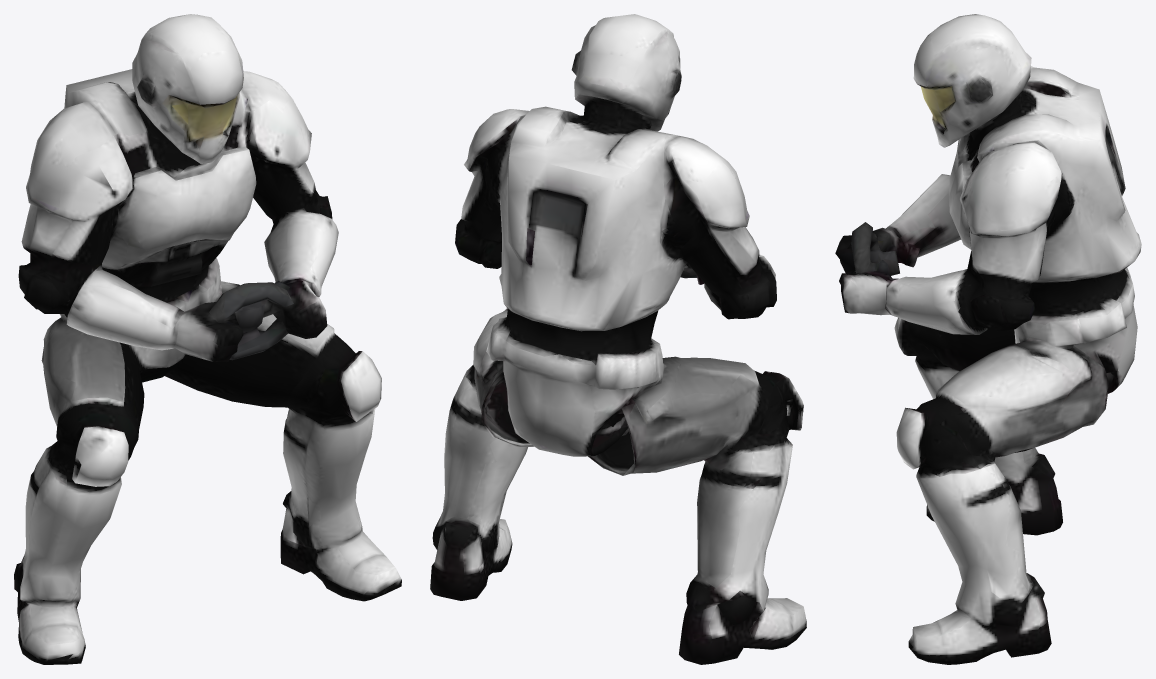
File: driver.glb
3 renders of one model, left to right at view 1: azimuth 30°, elevation 25°; view 2: azimuth 150°, elevation 25°; view 3: azimuth 270°, elevation 25°, orthographic. The views are drawn at different scales.
Parts seen in each view (by area): view 1: driver; view 2: driver; view 3: driver.
Part boxes in pixels (x1,y1,x2,y2): driver: (14,14,401,664); driver: (430,14,806,664); driver: (835,14,1141,664).
Size of the model in its own units: 0.8966 by 1.45 by 0.7159.
Materials: 1 (1 with a texture image).
